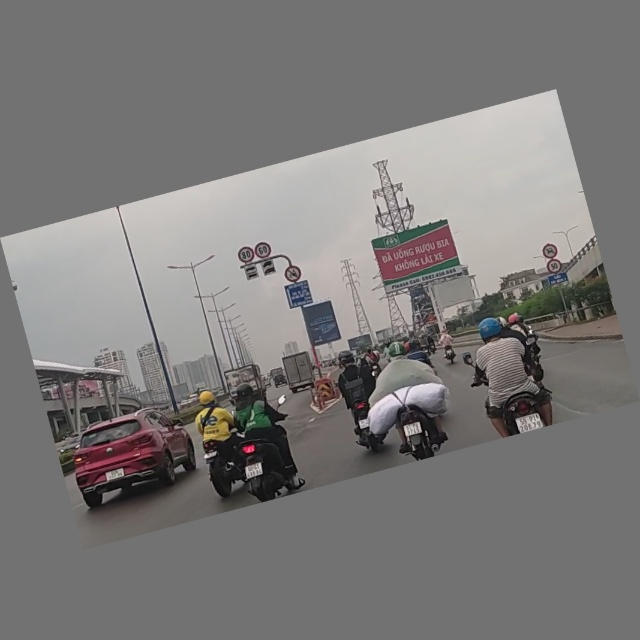P.103a: (541, 241, 560, 262)
P.104: (282, 264, 305, 285)
P.127*50: (546, 257, 563, 275)
P.127*60: (254, 242, 272, 261)
P.127*80: (237, 245, 255, 263)
